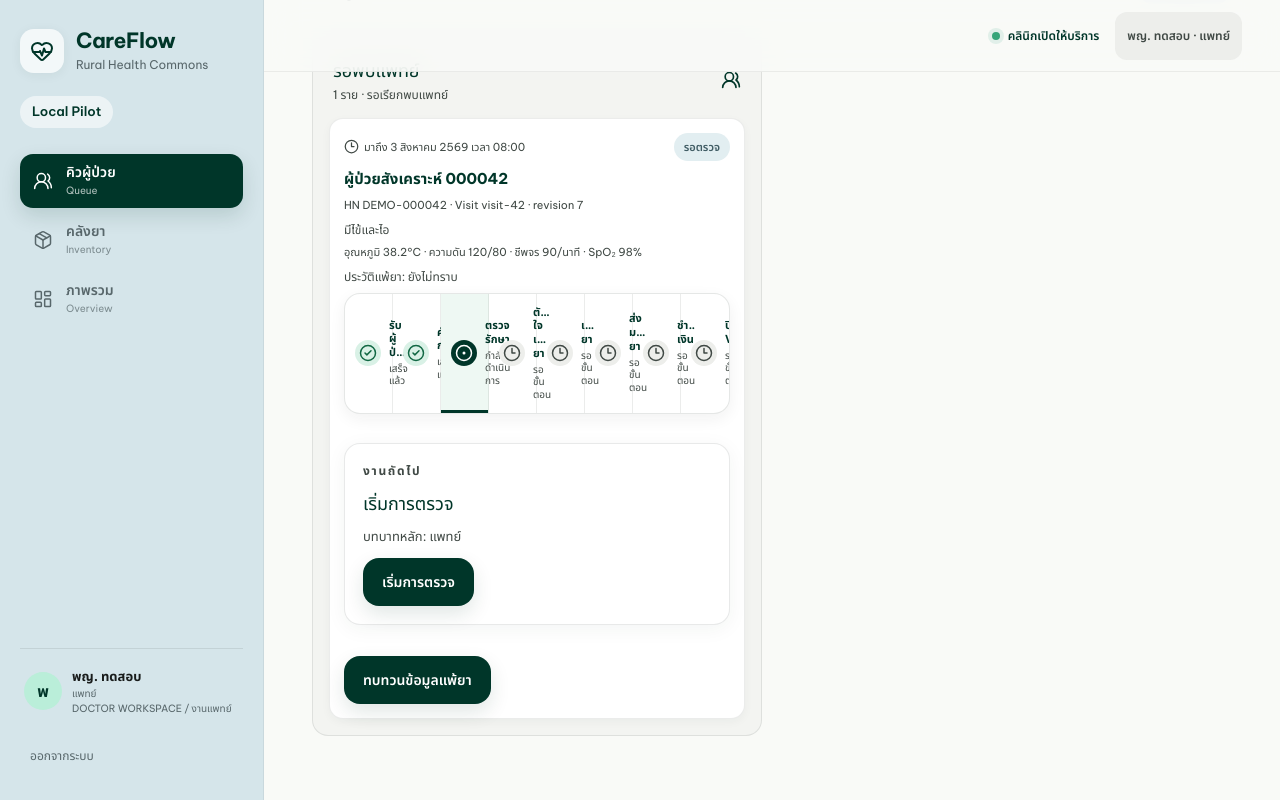
Test: connected shared queue workflow › surfaces a network start-command error instead of swallowing the error
(page scrolled)
Click the button "เริ่มการตรวจ" at {"x": 418, "y": 582}, box [363,558,474,606]
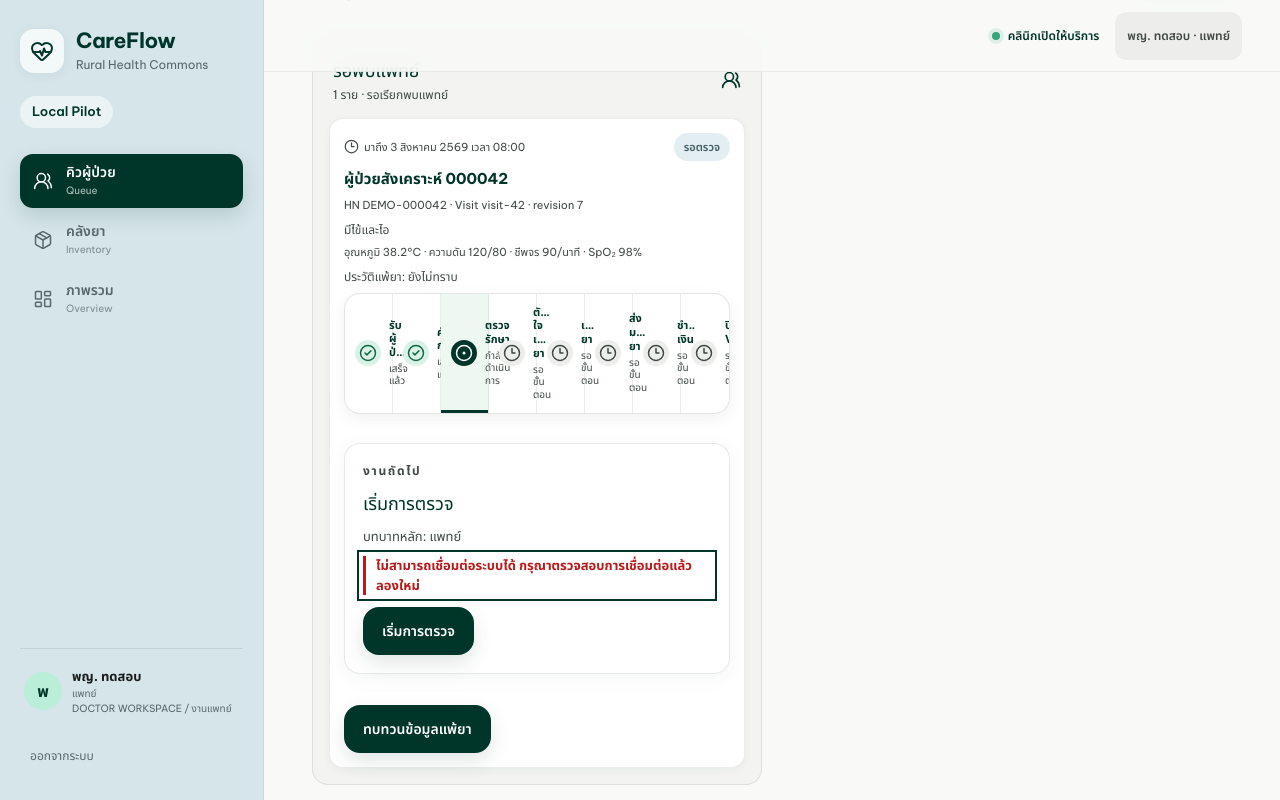
Check: the button "เริ่มการตรวจ" is enabled, box [363,607,474,655]
Check: the text "ไม่สามารถเชื่อมต่อระบบได้ กรุณาตรวจสอบการเชื่อมต่อแล้วลองใหม่" is shown, box [363,556,711,595]
